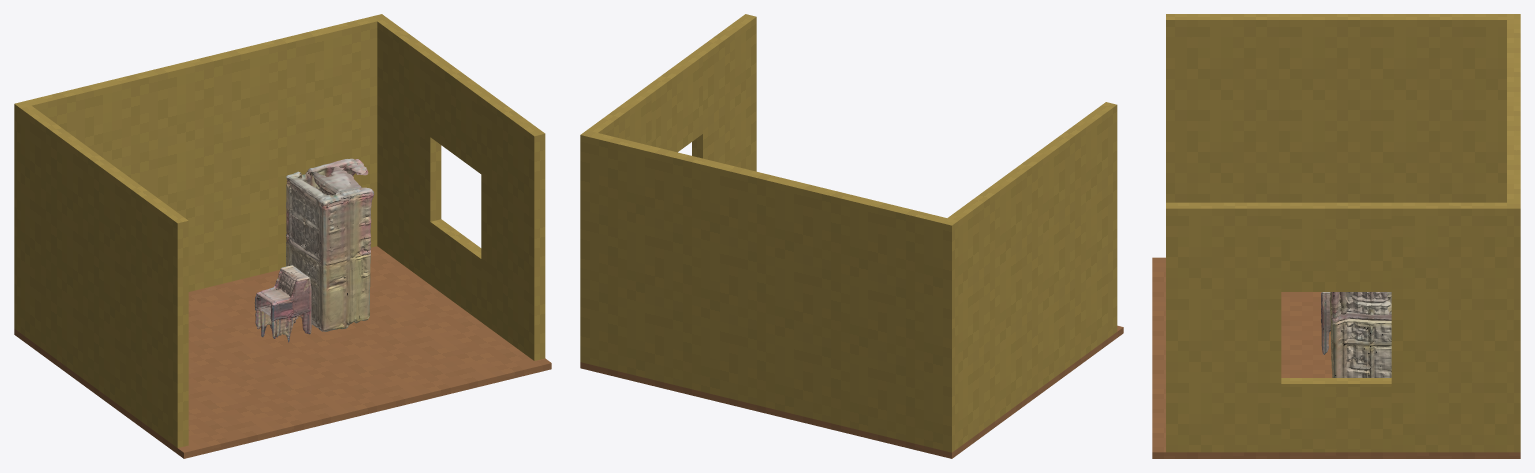
3 renders of one model, left to right at view 1: azimuth 30°, elevation 25°; view 2: azimuth 150°, elevation 25°; view 3: azimuth 270°, elevation 25°, orthographic. The views are drawn at different scales.
Visible parts, largest first — view 1: Cube.001, Cube, Cube.006, Cube.002, Cube.005, geometry_0.001, Cube.004, Cube.003, geometry_0.002; view 2: Cube.001, Cube.006, Cube.002, Cube.004, Cube, Cube.005; view 3: Cube.006, Cube.002, Cube.005, Cube.004, Cube, Cube.003, Cube.001, geometry_0.001, geometry_0.002.
Part boxes in pixels (bbox=[...]): Cube.001: bbox=[14, 14, 387, 332]; Cube: bbox=[14, 246, 551, 458]; Cube.006: bbox=[20, 105, 188, 447]; Cube.002: bbox=[481, 95, 545, 360]; Cube.005: bbox=[377, 18, 441, 284]; geometry_0.001: bbox=[286, 158, 374, 331]; Cube.004: bbox=[430, 57, 491, 173]; Cube.003: bbox=[430, 219, 481, 321]; geometry_0.002: bbox=[254, 265, 311, 342]; Cube.001: bbox=[580, 130, 958, 452]; Cube.006: bbox=[947, 102, 1117, 447]; Cube.002: bbox=[692, 14, 756, 171]; Cube.004: bbox=[641, 53, 702, 152]; Cube: bbox=[580, 325, 1123, 458]; Cube.005: bbox=[587, 91, 651, 145]; Cube.006: bbox=[1166, 14, 1506, 202]; Cube.002: bbox=[1166, 202, 1281, 452]; Cube.005: bbox=[1391, 202, 1506, 452]; Cube.004: bbox=[1281, 202, 1391, 291]; Cube: bbox=[1152, 257, 1520, 458]; Cube.003: bbox=[1281, 378, 1391, 452]; Cube.001: bbox=[1507, 14, 1520, 452]; geometry_0.001: bbox=[1329, 292, 1391, 377]; geometry_0.002: bbox=[1321, 292, 1330, 354].
Size of the model in its own units: 5 by 3 by 4.
Materials: 5 (5 with a texture image).
